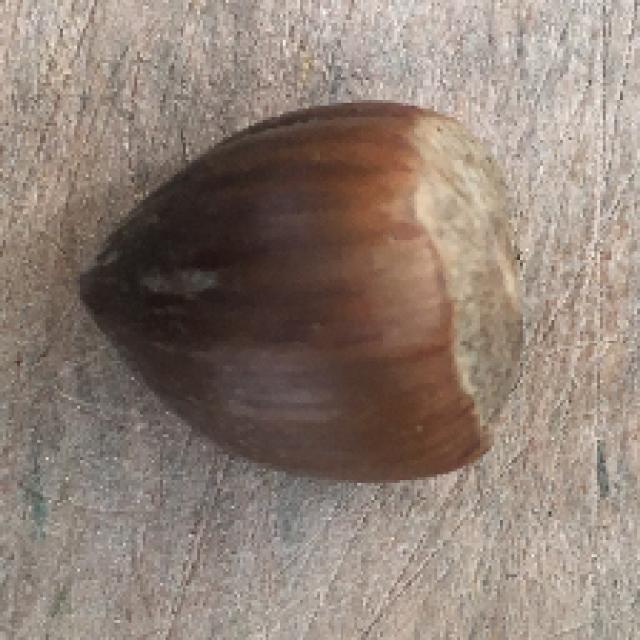qualityHazelnut: (75, 104, 544, 478)
